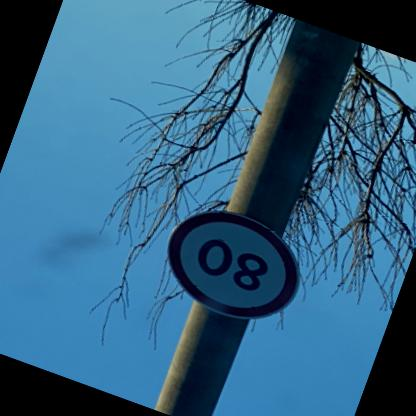speedlimit: (152, 197, 315, 338)
